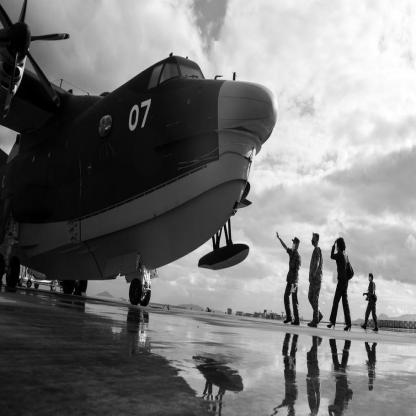US2: (2, 2, 280, 307)
